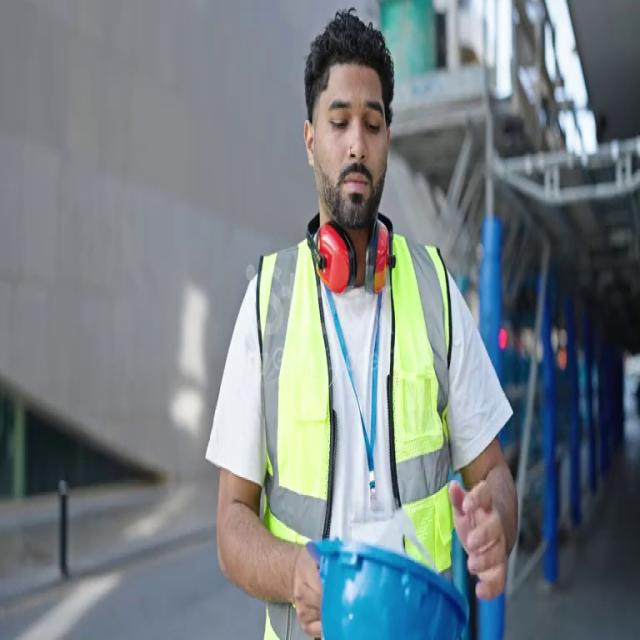capacete: (291, 506, 500, 640)
